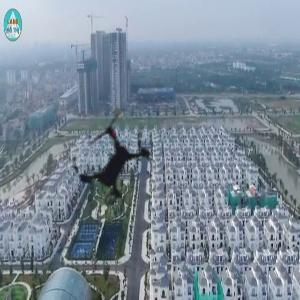drone: (38, 86, 185, 233)
